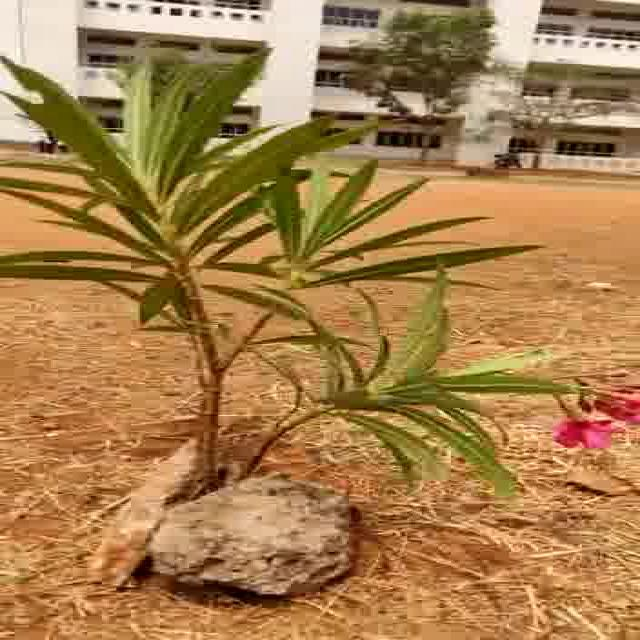Oleander: (0, 84, 632, 476)
